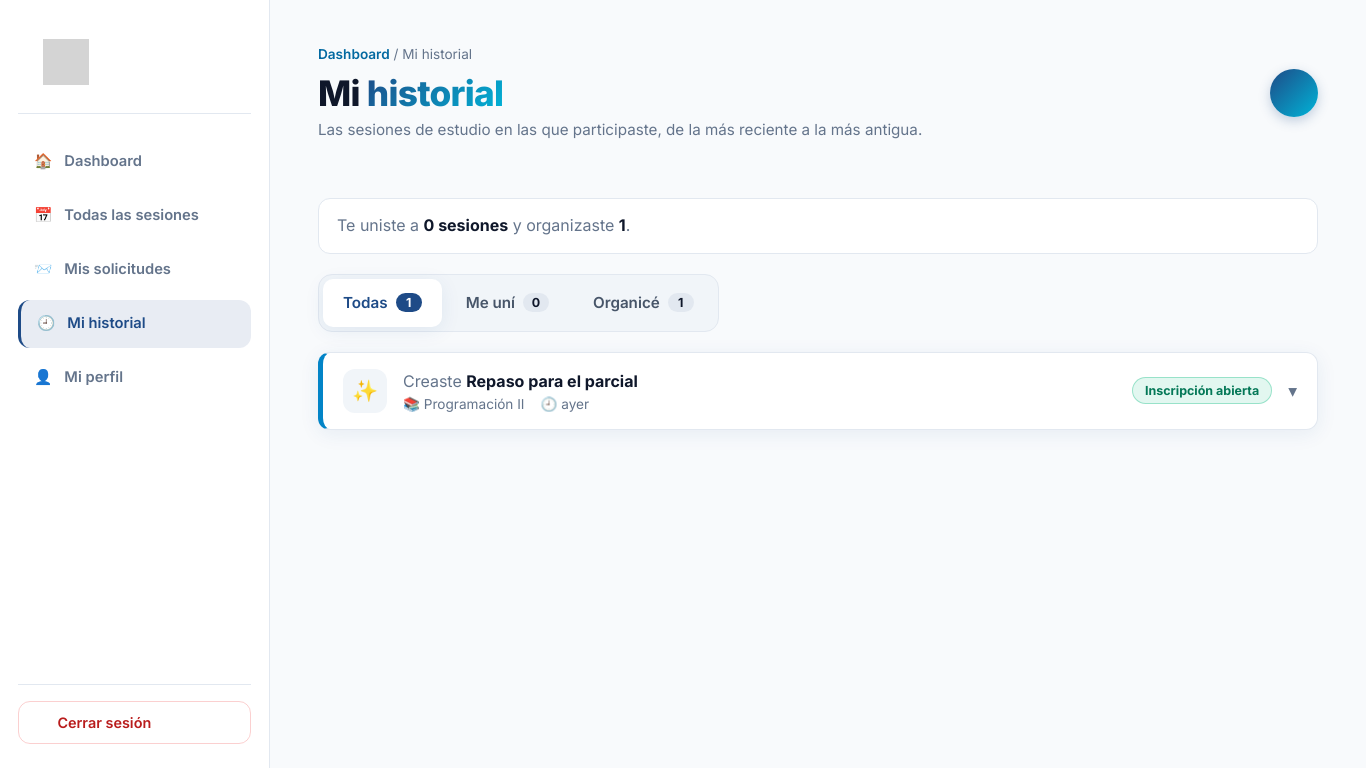
Scenario: el historial distingue un filtro con resultados de uno vacío y cierra detalles al cambiar
Click the button that starts with "Creaste" at (365, 391), box [323, 353, 1317, 429]
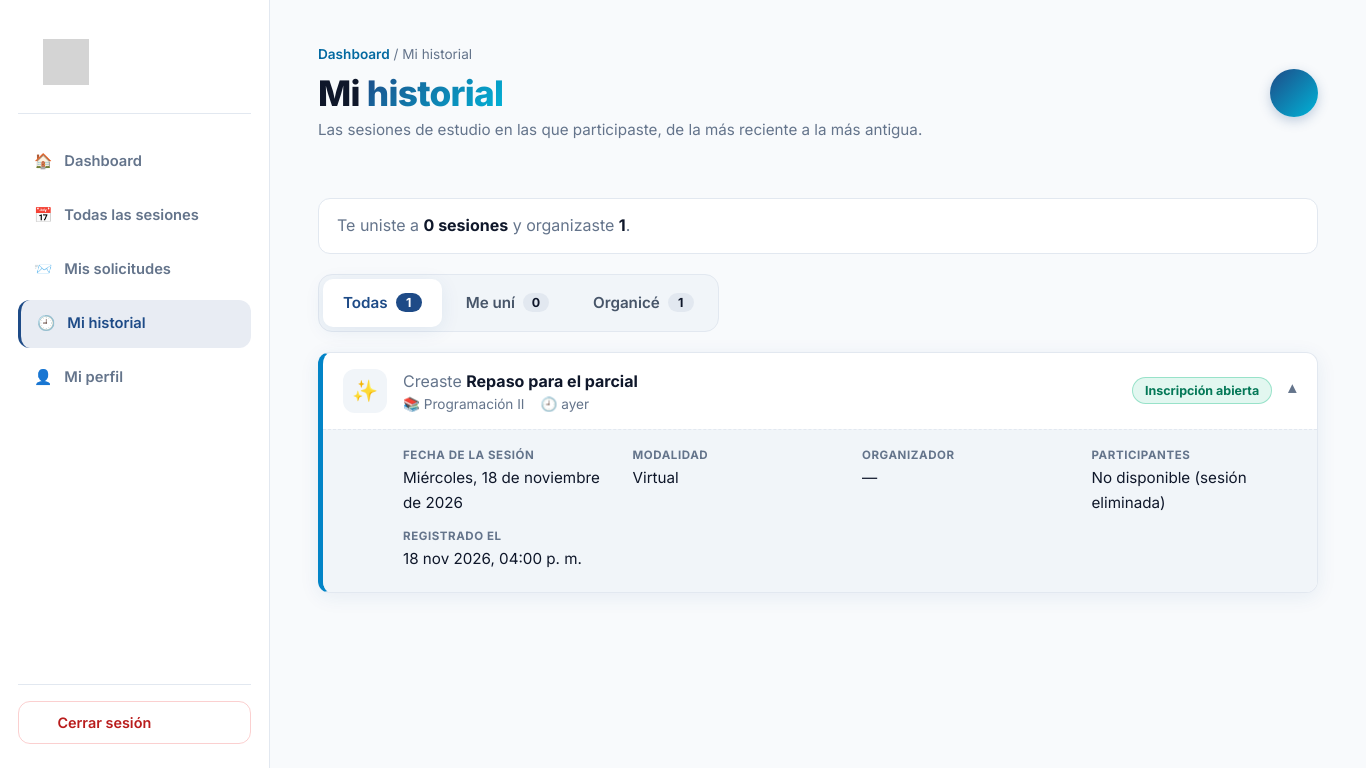
Check: the button that starts with "Creaste" is expanded, box [323, 353, 1317, 429]
Click the tab "Organicé 1" at (643, 303), box [573, 279, 714, 327]
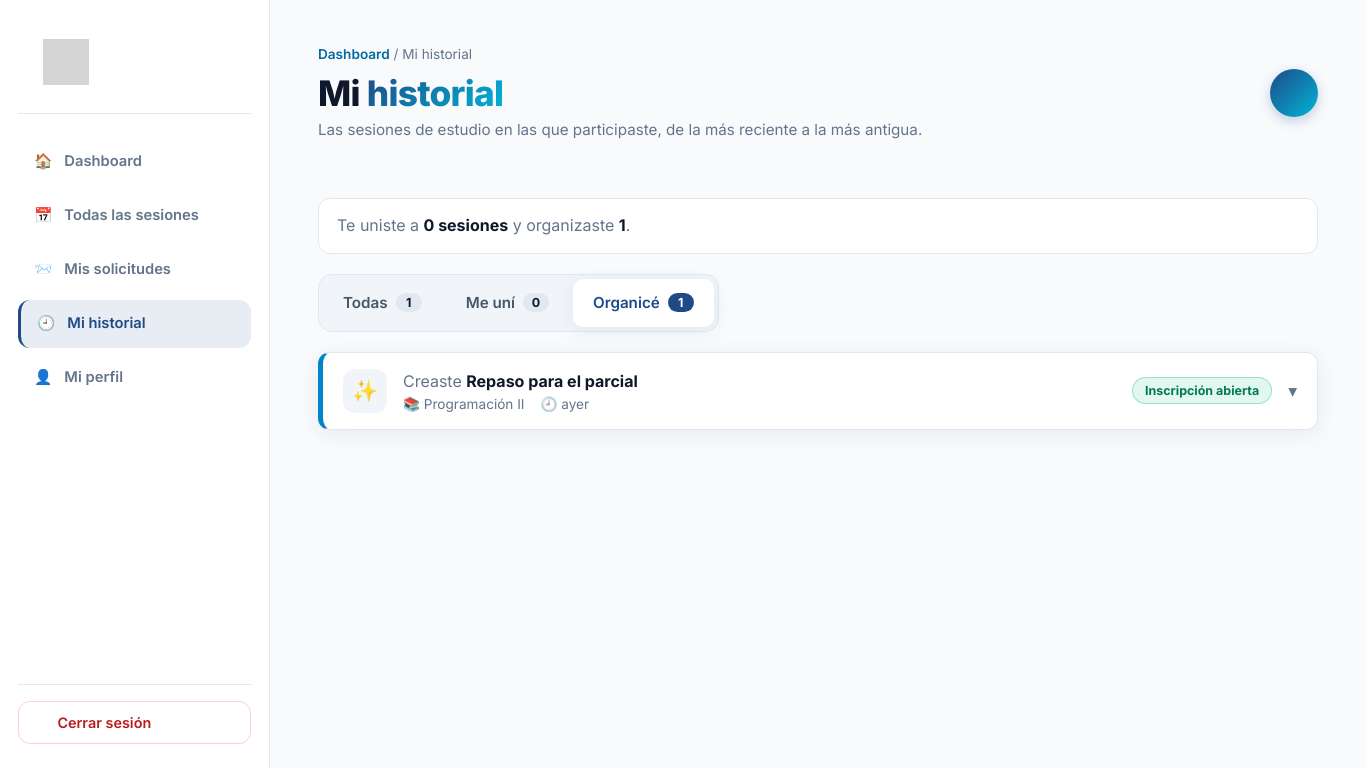
Check: the button that starts with "Creaste" is collapsed, box [323, 353, 1317, 429]
Click the tab "Me uní 0" at (507, 303), box [446, 279, 569, 327]
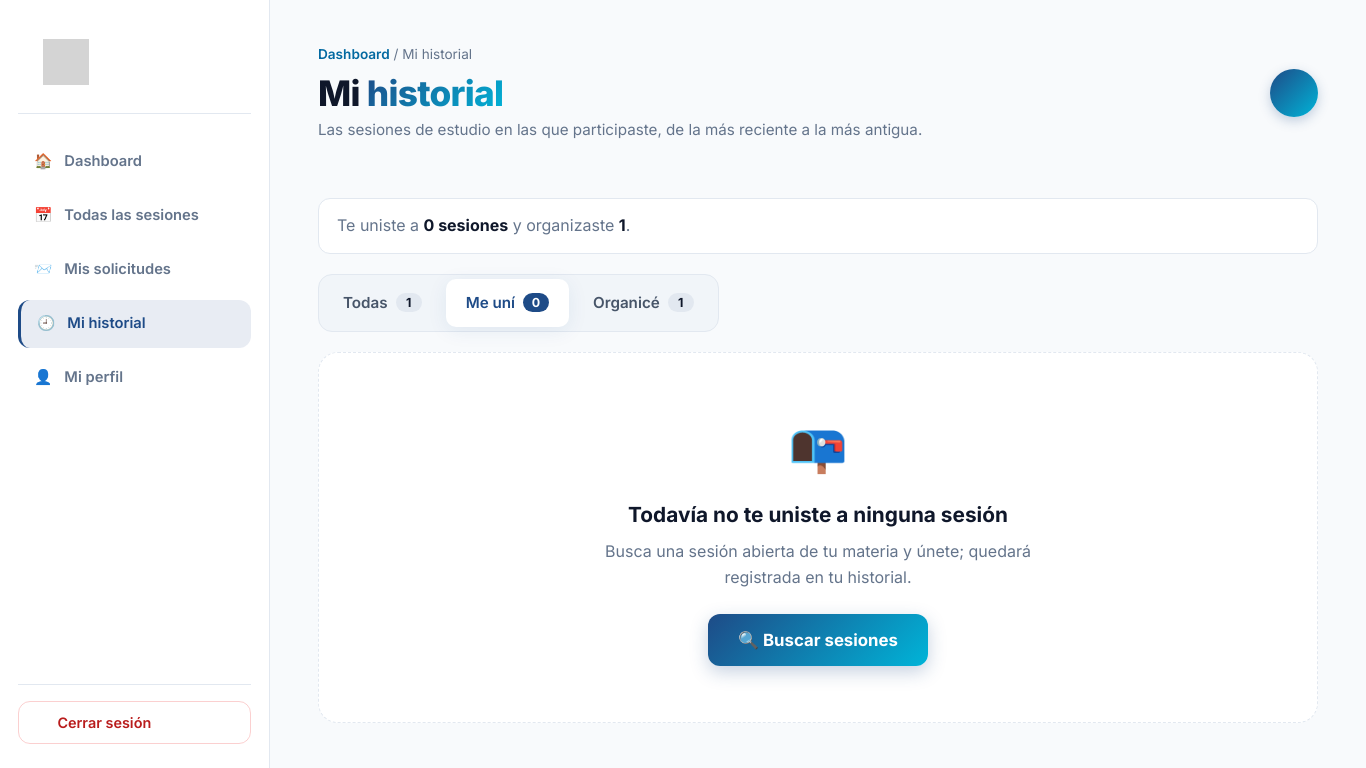
Check: the heading "Todavía no te uniste a ninguna sesión" is shown, box [628, 502, 1008, 527]
